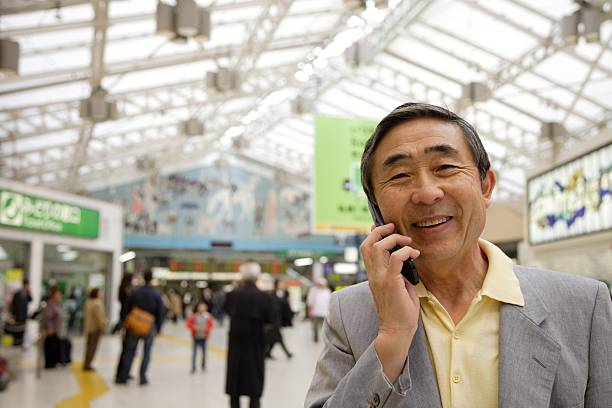phone: (354, 201, 428, 292)
talk: (351, 136, 479, 324)
